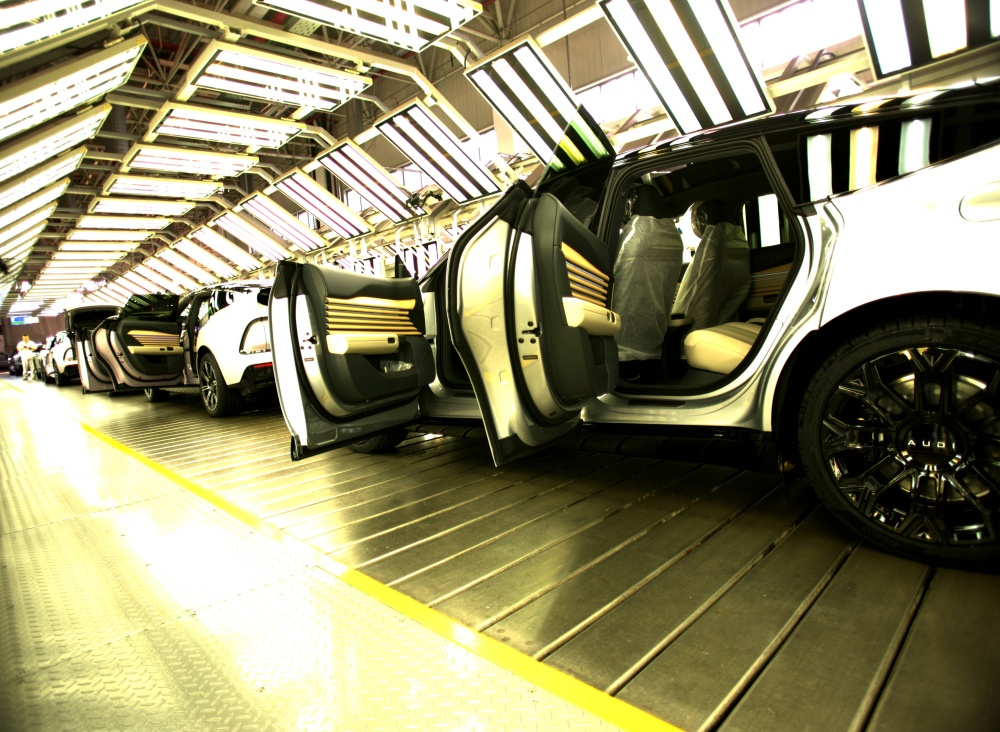armrest_color: (560, 294, 624, 339), (325, 333, 405, 356)
panel_color: (323, 294, 418, 333), (558, 239, 611, 308)
